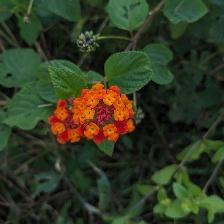common lanthana: (48, 81, 144, 147)
